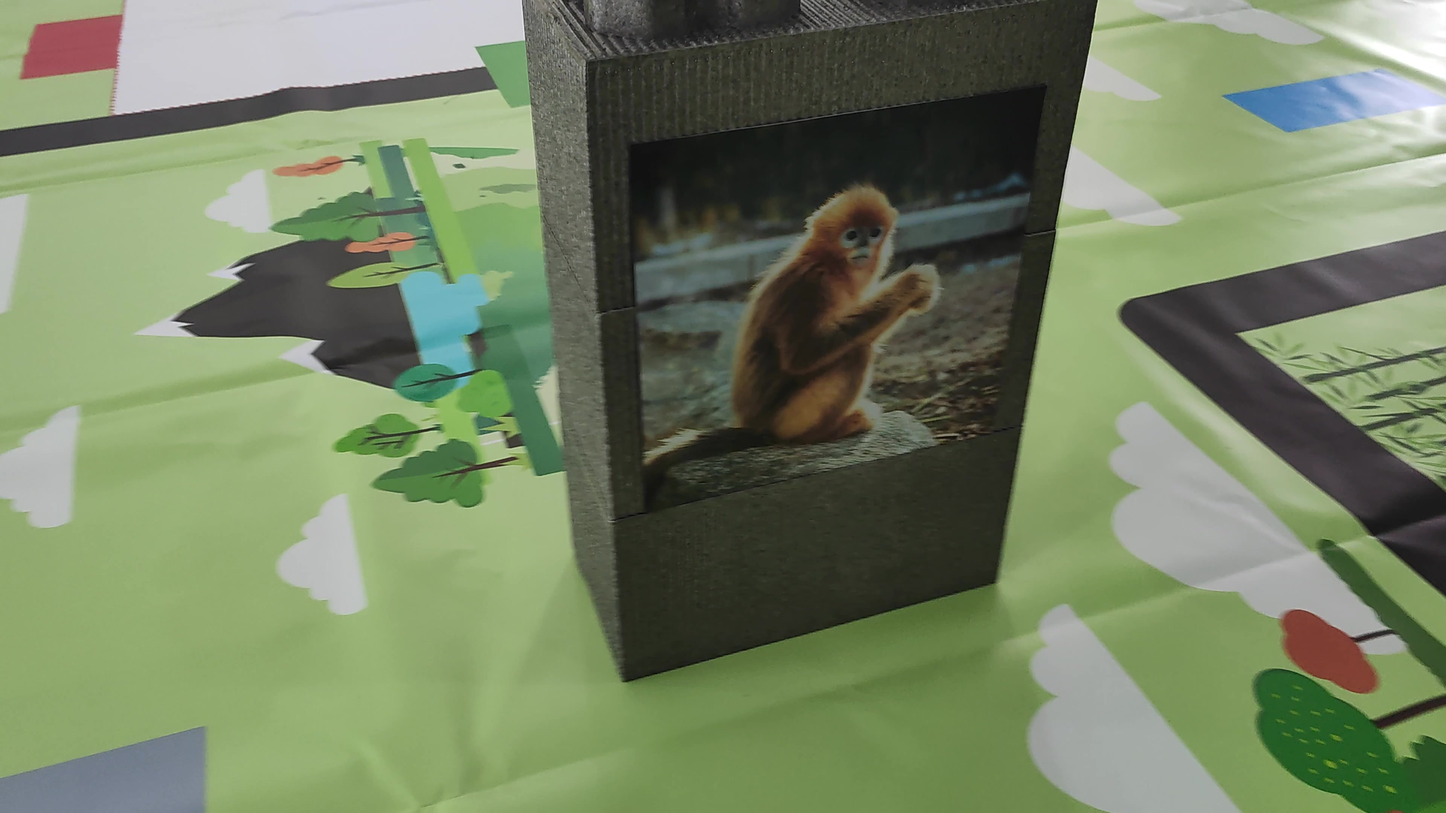monkey: (680, 139, 1010, 463)
